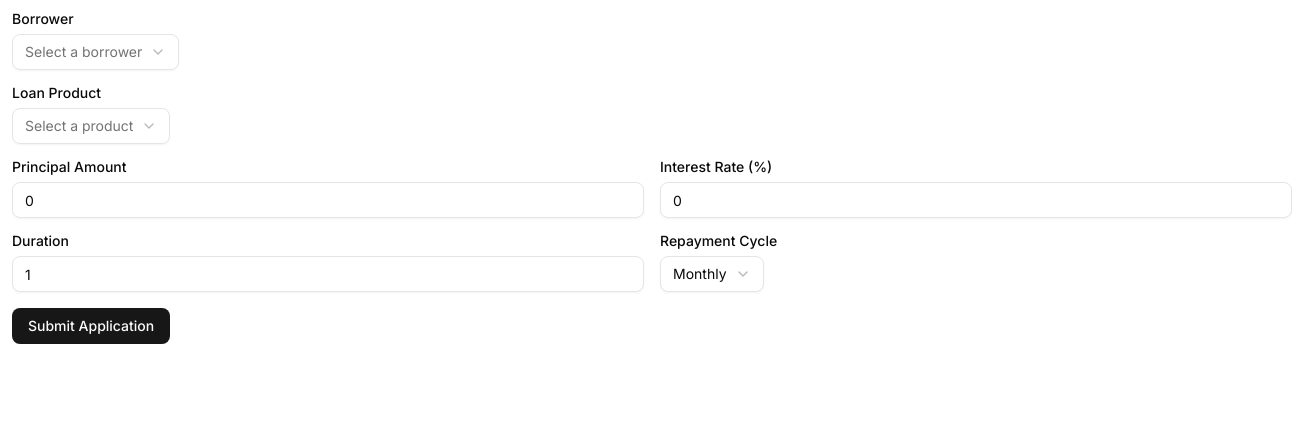
Test: LoanForm › Form Validation › validates numeric fields are positive
Check: the text "Principal Amount" is shown, box x1=12 y1=158 x2=126 y2=175
# Try to submit with invalid principal
Replace the text in the number field labelled "Principal Amount" with "-1000": (328, 200) x1=12 y1=182 x2=644 y2=218
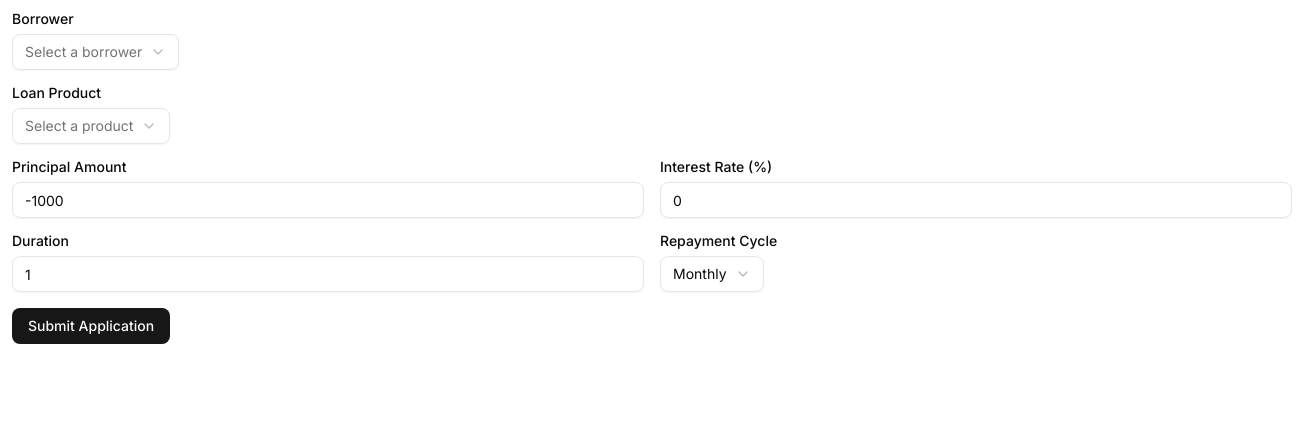
Click the button "Submit Application": (91, 326) x1=12 y1=308 x2=170 y2=344
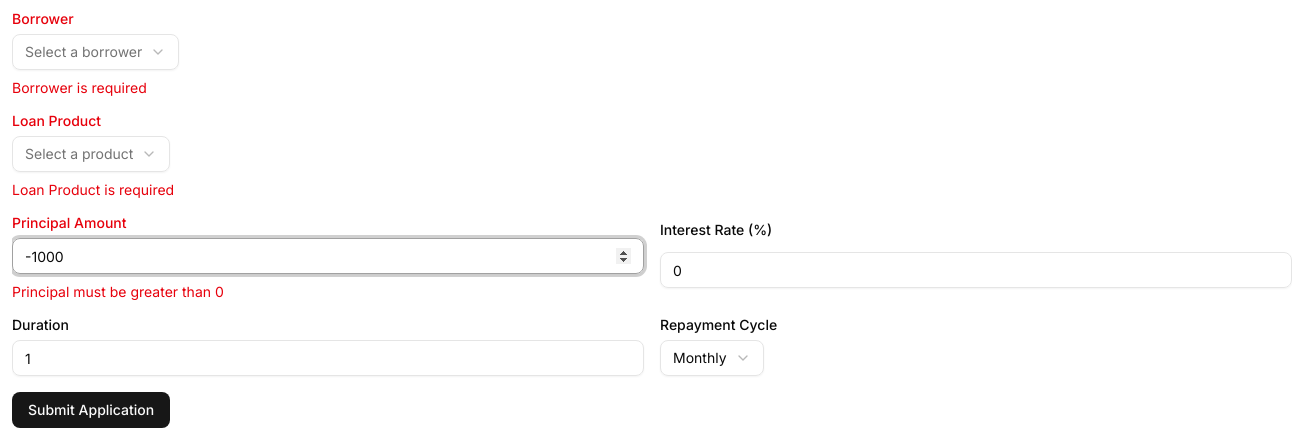
Check: the text "Principal must be greater than 0" is shown, box x1=12 y1=283 x2=224 y2=300
